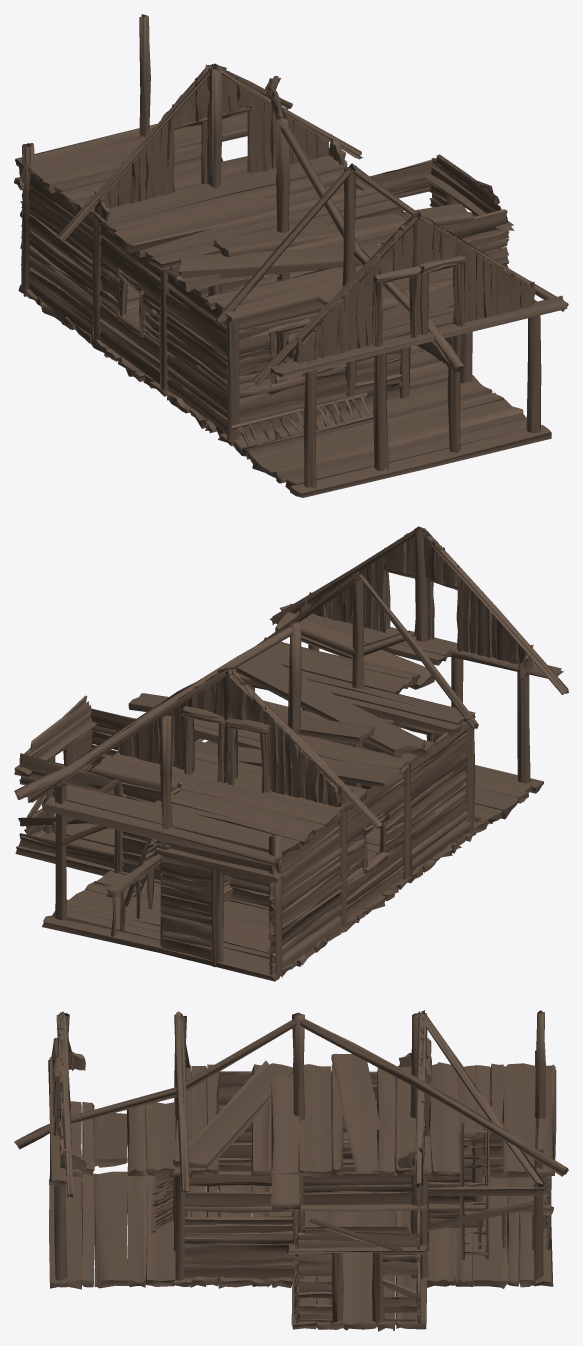
The model's file is -LOD0_p_hut_003.fbx.
The picture shows the model from 3 angles, top to bottom: view 1: azimuth 30°, elevation 25°; view 2: azimuth 150°, elevation 25°; view 3: azimuth 270°, elevation 25°; orthographic projection. The views are drawn at different scales.
Visible parts, largest first — view 1: Cylinder.006; view 2: Cylinder.006; view 3: Cylinder.006.
Boxes of the visible parts, x1,y1,x2,y2 form: Cylinder.006: (14,14,568,497); Cylinder.006: (14,526,568,981); Cylinder.006: (14,1010,568,1331).
Bounding box in the file's own units: 1342 × 839 × 1877.
